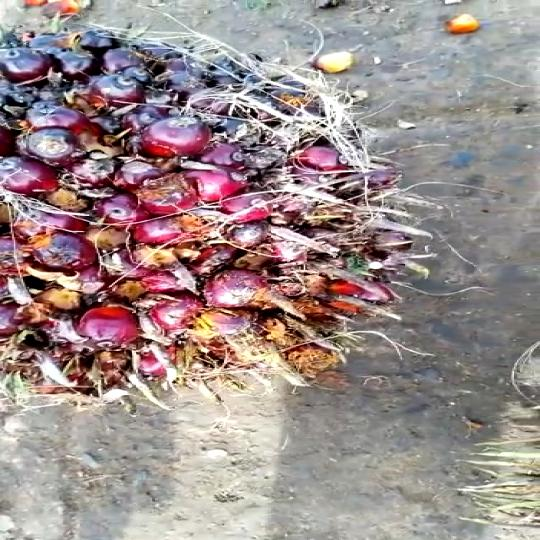masak: (0, 16, 404, 398)
